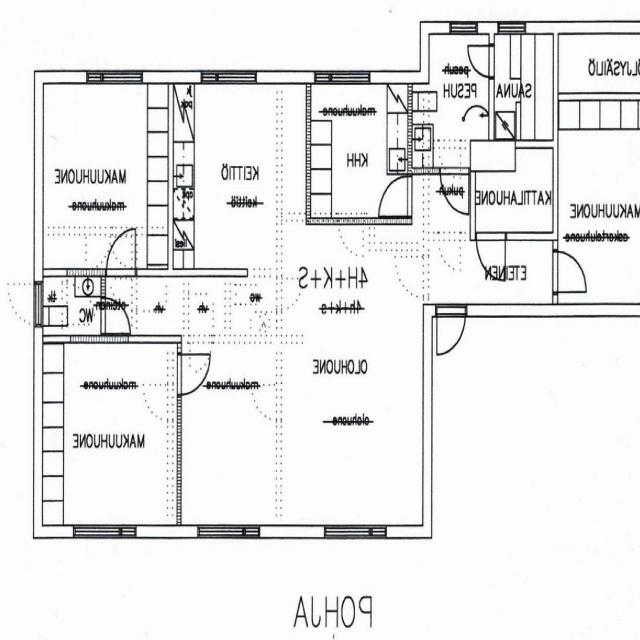door: (437, 304, 466, 356), (553, 252, 587, 292), (477, 232, 505, 280), (380, 176, 413, 216), (441, 167, 469, 214), (107, 229, 135, 276), (178, 354, 210, 394), (101, 298, 131, 333), (466, 45, 495, 77)
